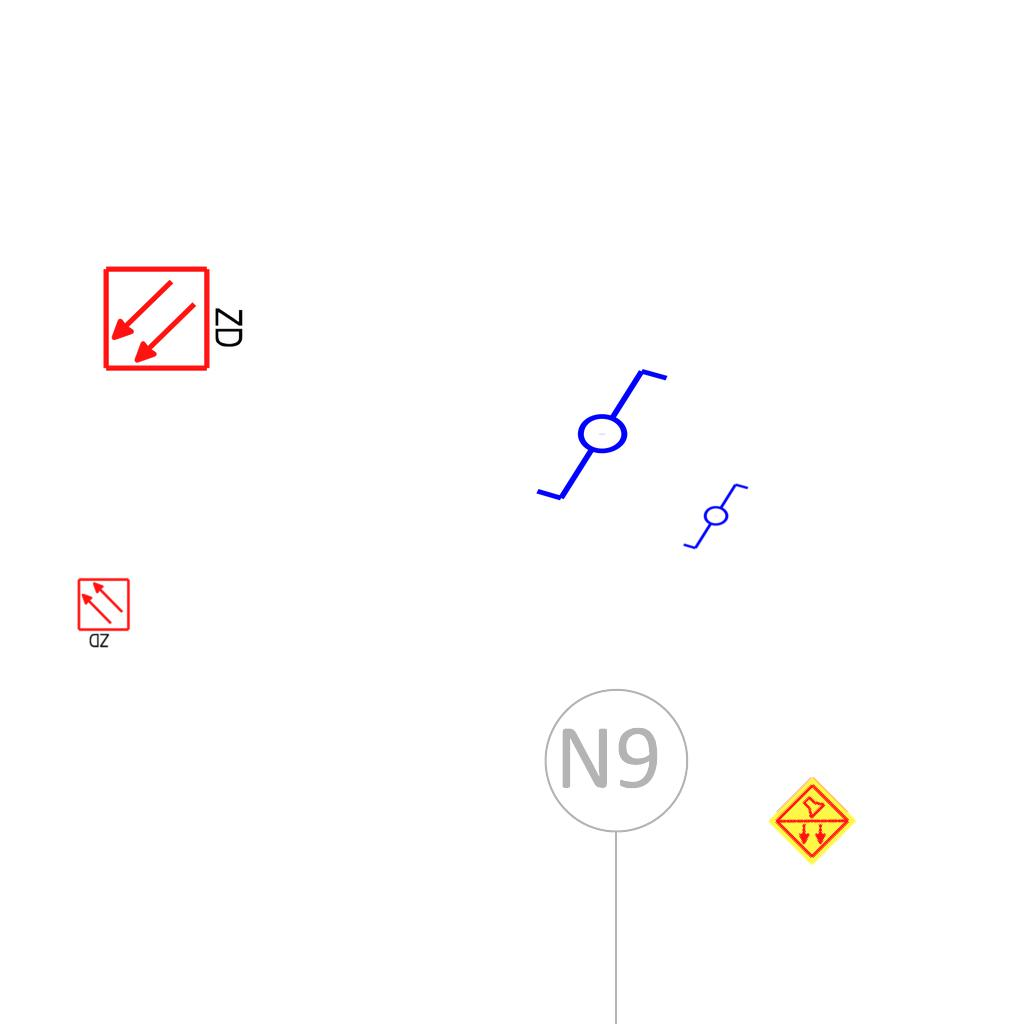OKW_Multisensormelder_(Kombination_optischer_Rauch-Kahlenmonoxid_Waerme-Melder): (765, 774, 859, 868)
Wechselschalter: (532, 364, 689, 508), (681, 481, 759, 553)
ZD_Melder_in_Zwischendecke_mit_Revisionsoeffnung_mind_40_x_40_cm: (101, 260, 250, 374), (76, 577, 133, 651)
